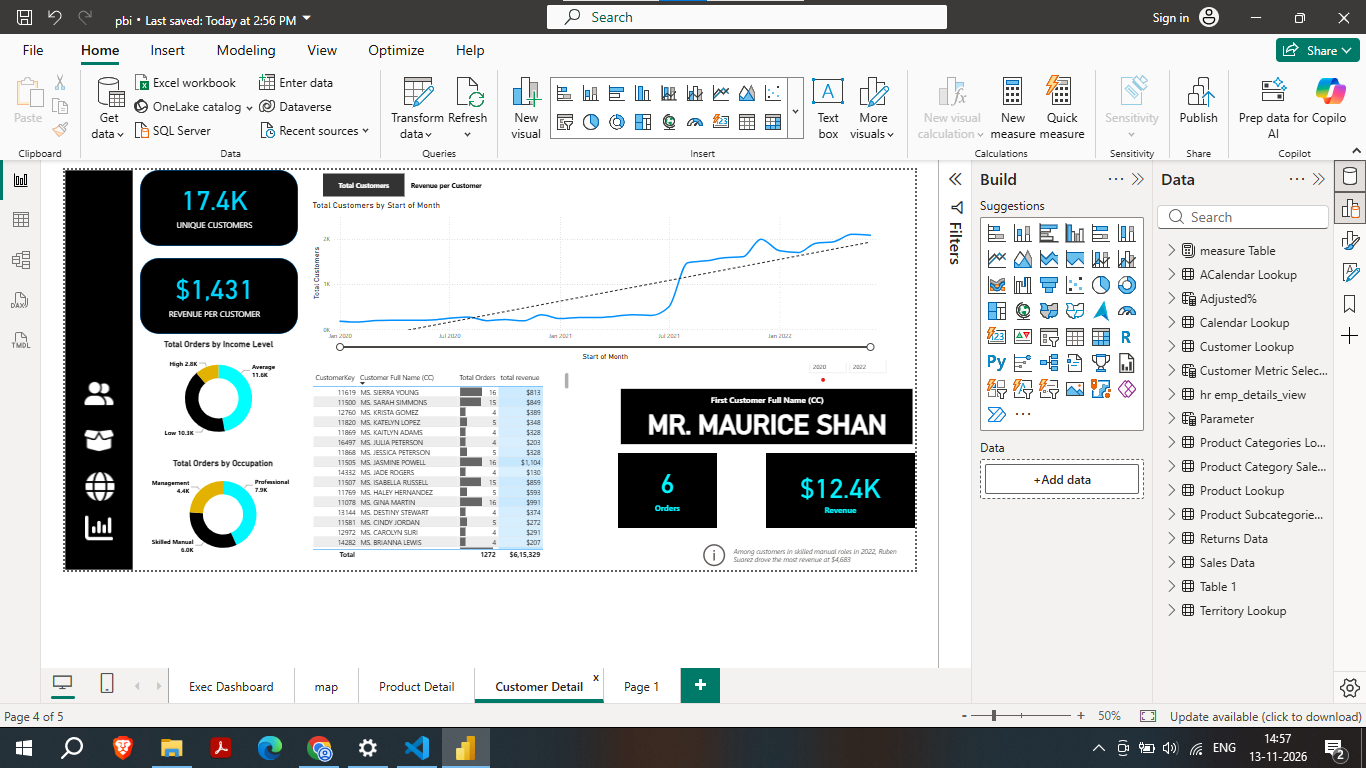

Layout of this report page (visuals, bound fields, positions):
{"tool":"powerbi","page":{"name":"Customer Detail","canvas":[1700,800],"ordinal":3},"visuals":[{"type":"shape","box":[0,0,136,800],"z":0},{"type":"actionButton","box":[18,414,100,66],"z":1000},{"type":"actionButton","box":[18,508,100,66],"z":2000},{"type":"actionButton","box":[20,600,100,66],"z":3000},{"type":"actionButton","box":[18,684,100,64],"z":4000},{"type":"shape","box":[150,0,316,152],"z":5000},{"type":"shape","box":[150,176,316,152],"z":6000},{"type":"cardVisual","fields":{"Data":["measure Table.total customers"]},"box":[182,4,234,142],"z":7000},{"type":"cardVisual","fields":{"Data":["measure Table.Average Revenue per Customer"]},"box":[166,152,266,200],"z":8000},{"type":"slicer","fields":{"Values":["Parameter 2.Parameter"]},"box":[490,0,378,60],"z":9000},{"type":"donutChart","fields":{"Category":["Customer Lookup.Income Level"],"Y":["measure Table.Total Orders"]},"box":[182,338,250,218.3],"z":10000},{"type":"donutChart","fields":{"Category":["Customer Lookup.Occupation"],"Y":["measure Table.Total Orders"]},"box":[166,576,300,206.7],"z":11000},{"type":"slicer","fields":{"Values":["Calendar Lookup.Year"]},"box":[1475,370,225,45],"z":12000},{"type":"lineChart","fields":{"Category":["Calendar Lookup.Date Hierarchy.Date","Calendar Lookup.Date Hierarchy.Start of Month","Calendar Lookup.Date Hierarchy.Start of Week","Calendar Lookup.Date Hierarchy.Year"],"Y":["measure Table.total customers"]},"box":[490,60,1150,326],"z":13000},{"type":"tableEx","fields":{"Values":["Customer Lookup.CustomerKey","Customer Lookup.Customer Full Name (CC)","measure Table.Total Orders","measure Table.total revenue"]},"box":[490,400,522.5,382.5],"z":14000},{"type":"cardVisual","fields":{"Data":["Min(Customer Lookup.Customer Full Name (CC))"]},"box":[1105,432.5,595,122.5],"z":15000},{"type":"cardVisual","fields":{"Data":["measure Table.Total Orders"]},"box":[1105,565,197.5,150],"z":16000},{"type":"card","fields":{"Values":["measure Table.total revenue"]},"box":[1402.5,565,297.5,150],"z":17000},{"type":"actionButton","box":[1270,742.5,410,56.7],"z":18000}]}

Visuals, with their boxes on the page's 1700x800 design canvas (x1, y1, x2, y2). These are canvas units, not pixel positions in the 1366x768 screenshot, which may show the page scaled, cropped or inside an application window:
shape: bbox=[0, 0, 136, 800]
actionButton: bbox=[18, 414, 118, 480]
actionButton: bbox=[18, 508, 118, 574]
actionButton: bbox=[20, 600, 120, 666]
actionButton: bbox=[18, 684, 118, 748]
shape: bbox=[150, 0, 466, 152]
shape: bbox=[150, 176, 466, 328]
cardVisual - measure Table.total customers: bbox=[182, 4, 416, 146]
cardVisual - measure Table.Average Revenue per Customer: bbox=[166, 152, 432, 352]
slicer - Parameter 2.Parameter: bbox=[490, 0, 868, 60]
donutChart - Customer Lookup.Income Level x measure Table.Total Orders: bbox=[182, 338, 432, 556]
donutChart - Customer Lookup.Occupation x measure Table.Total Orders: bbox=[166, 576, 466, 783]
slicer - Calendar Lookup.Year: bbox=[1475, 370, 1700, 415]
lineChart - Calendar Lookup.Date Hierarchy.Date x Calendar Lookup.Date Hierarchy.Start of Month: bbox=[490, 60, 1640, 386]
tableEx - Customer Lookup.CustomerKey x Customer Lookup.Customer Full Name (CC): bbox=[490, 400, 1012, 782]
cardVisual - Min(Customer Lookup.Customer Full Name (CC)): bbox=[1105, 432, 1700, 555]
cardVisual - measure Table.Total Orders: bbox=[1105, 565, 1302, 715]
card - measure Table.total revenue: bbox=[1402, 565, 1700, 715]
actionButton: bbox=[1270, 742, 1680, 799]
